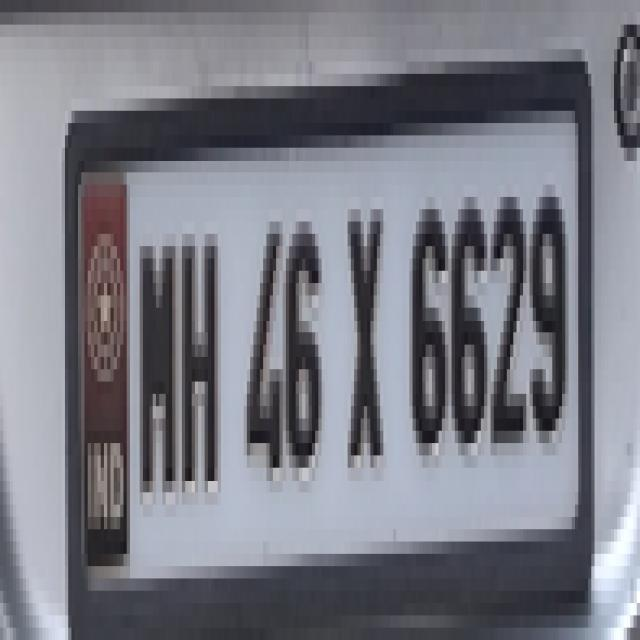4: (239, 220, 288, 510)
6: (282, 224, 330, 482), (408, 204, 451, 456), (451, 203, 492, 460)
9: (531, 194, 572, 451)
H: (178, 222, 226, 518)
M: (133, 227, 182, 507)
X: (338, 188, 394, 488)
